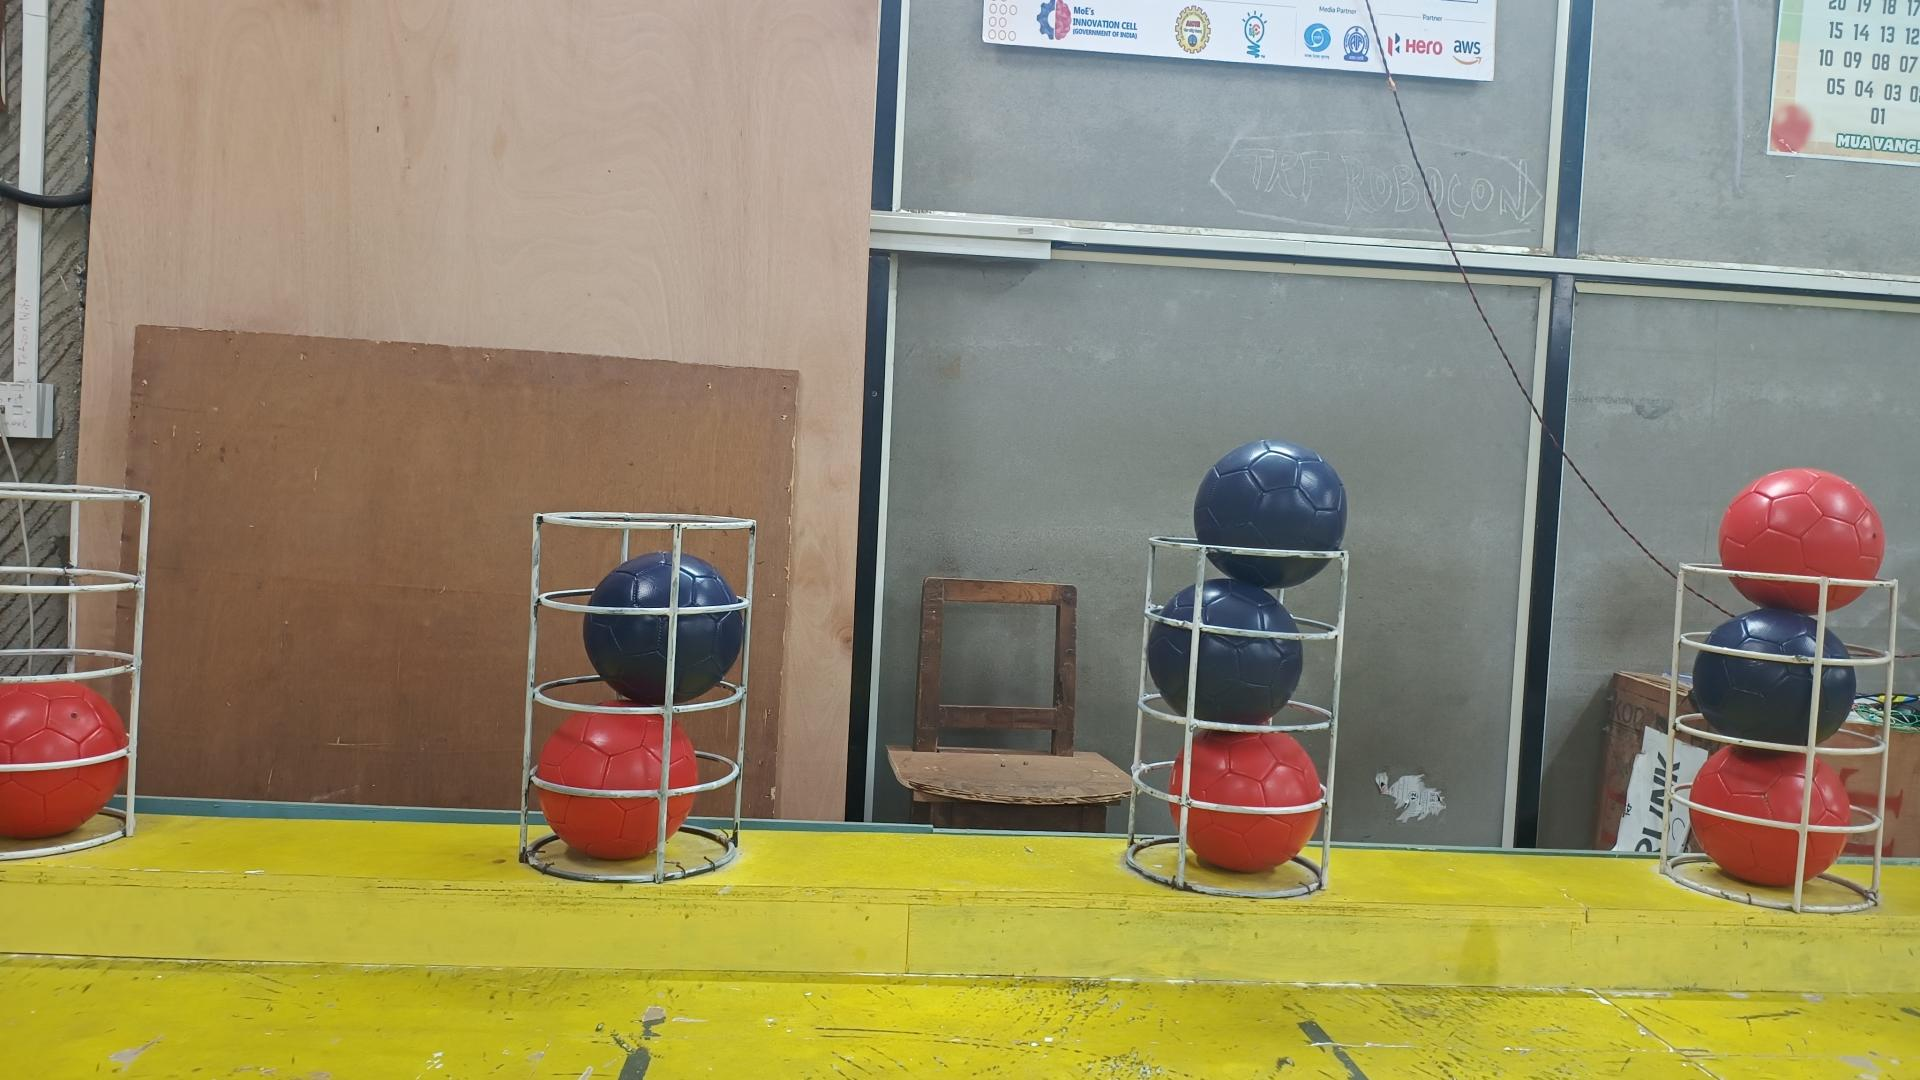dhoka: (582, 551, 746, 705), (1147, 578, 1305, 724), (1192, 439, 1346, 588), (1692, 608, 1857, 746)
laale: (537, 712, 702, 862), (1717, 468, 1886, 615), (1688, 746, 1853, 889), (1170, 732, 1324, 874), (0, 683, 128, 840)
